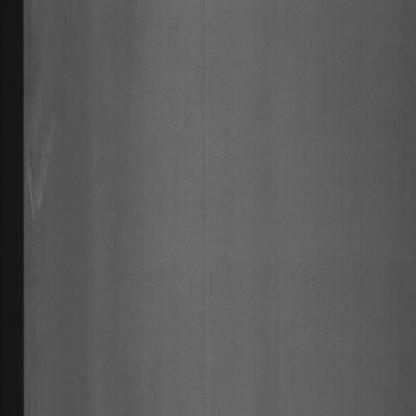silk_spot: (27, 118, 64, 228)
